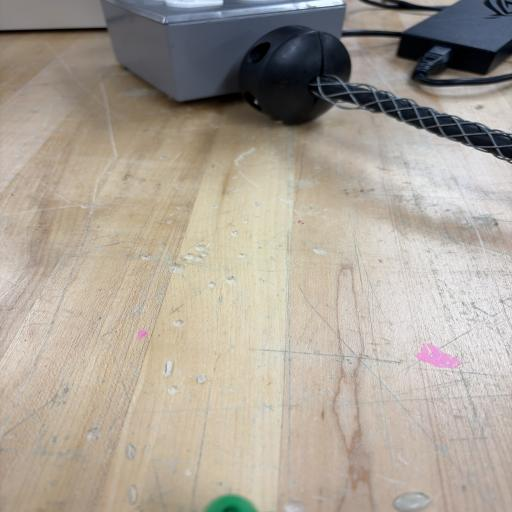Green-Lego: (205, 494, 257, 512)
